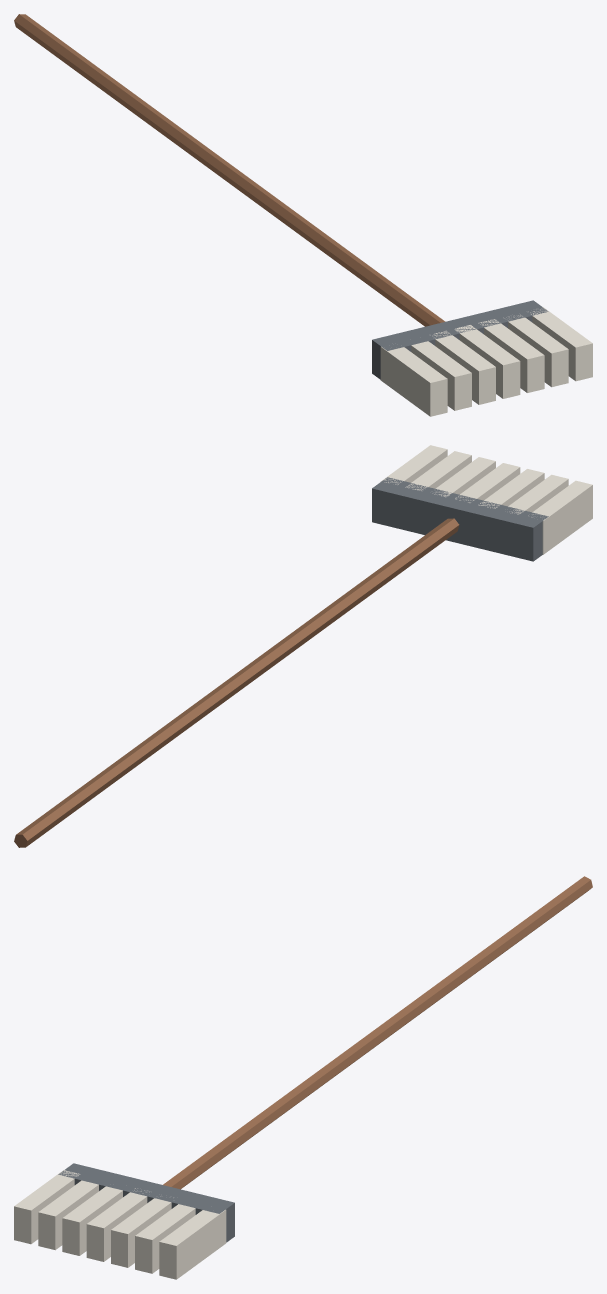
The model's file is mop.glb.
3 renders of one model, top to bottom at view 1: azimuth 30°, elevation 25°; view 2: azimuth 150°, elevation 25°; view 3: azimuth 330°, elevation 25°, orthographic.
Visible parts, largest first — view 1: mop_mesh; view 2: mop_mesh; view 3: mop_mesh.
Boxes of the visible parts, left/top/right/bottom form: mop_mesh: left=14, top=14, right=592, bottom=416; mop_mesh: left=14, top=445, right=592, bottom=847; mop_mesh: left=14, top=876, right=592, bottom=1279.
Bounding box in the file's own units: 0.302 × 0.06 × 1.58.
Materials: 1 (1 with a texture image).
